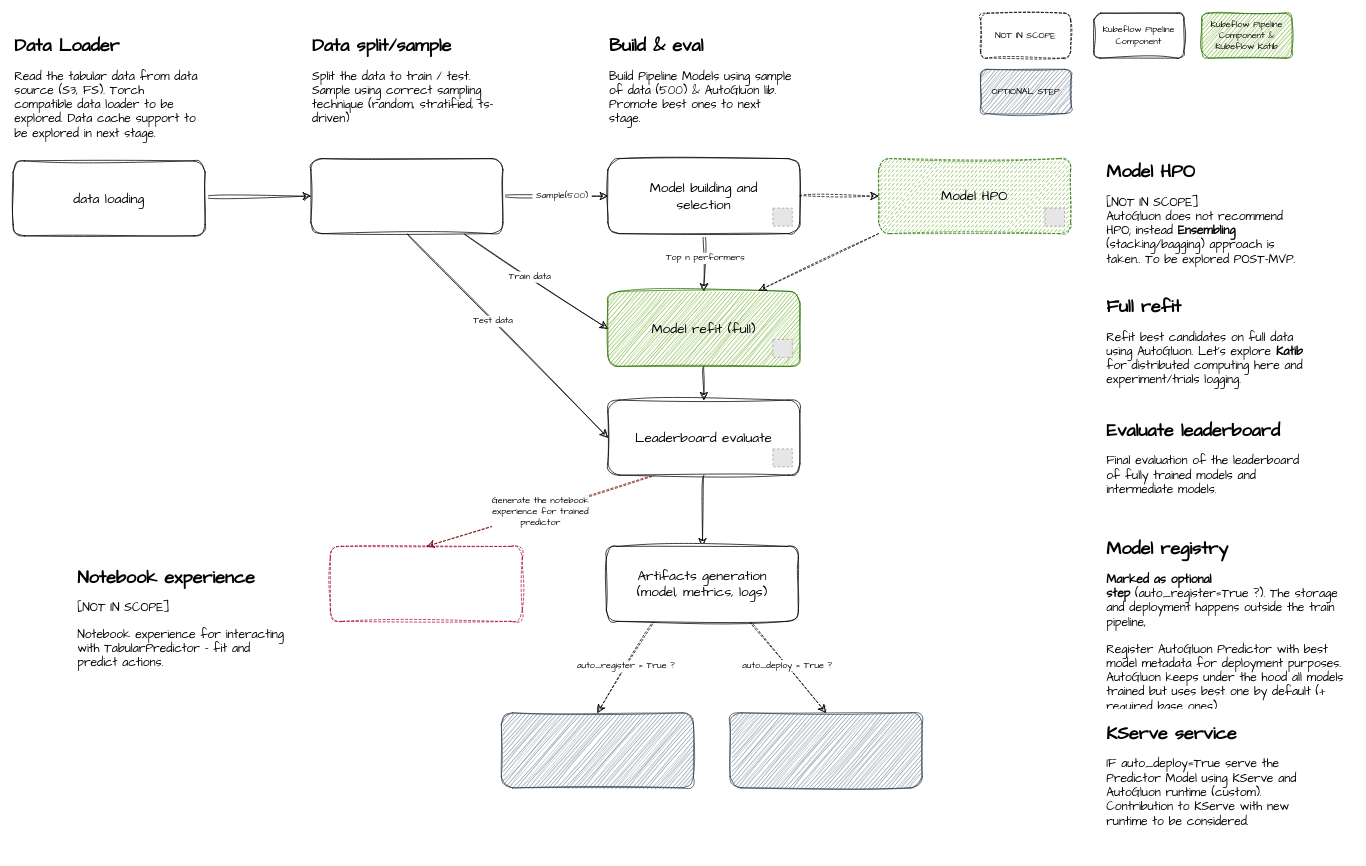
The diagram is 1366 pixels wide and 866 high, and some of its shapes have lost their labels. Grey dashed boxes stand in for pictures. Here are the shapes that lost their labels. From the top down, the centre of each, then its label:
At point 406,196: "train/test split sampling".
At point 426,583: "Notebook generation".
At point 597,750: "Model registry".
At point 825,750: "KServe service".
